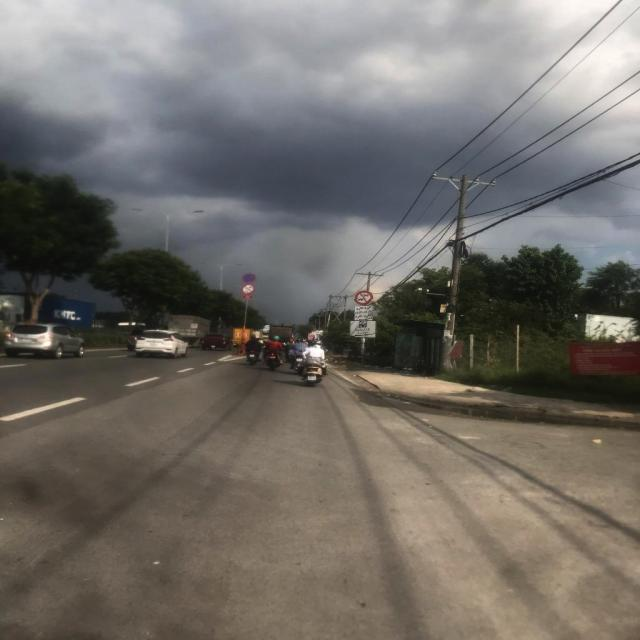cam_dung_xe_va_do_xe: (242, 274, 256, 284)
cam_o_to_tai_va_xe_khach: (354, 290, 374, 306)
cam_xe_2_banh_va_xe_3_banh_co_dong_co: (241, 285, 255, 295)
khac: (350, 322, 376, 338), (355, 306, 373, 321)
